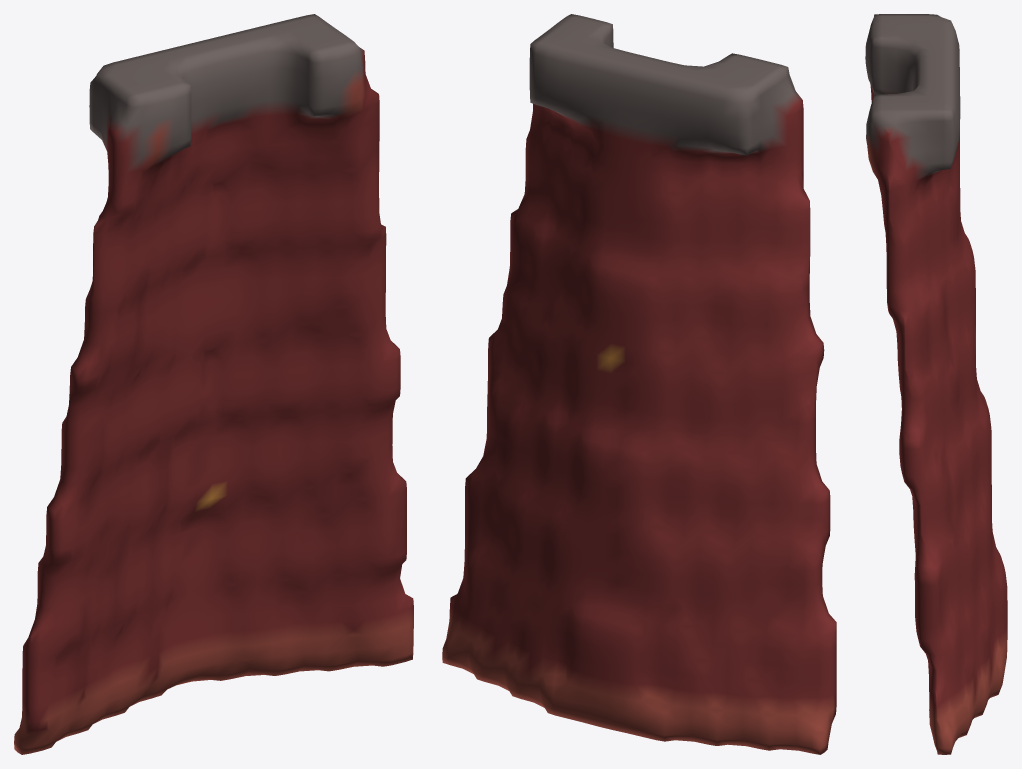
Rendered from plate_masterwork_cloak_lod1.glb.
3 renders of one model, left to right at view 1: azimuth 30°, elevation 25°; view 2: azimuth 150°, elevation 25°; view 3: azimuth 270°, elevation 25°, orthographic. The views are drawn at different scales.
Visible parts, largest first — view 1: plate_masterwork_cloak_lod1; view 2: plate_masterwork_cloak_lod1; view 3: plate_masterwork_cloak_lod1.
Part boxes in pixels (<box>): plate_masterwork_cloak_lod1: <box>14,14,413,754</box>; plate_masterwork_cloak_lod1: <box>442,14,836,754</box>; plate_masterwork_cloak_lod1: <box>865,14,1007,754</box>.
Bounding box in the file's own units: 0.6237 × 1.01 × 0.2154.
